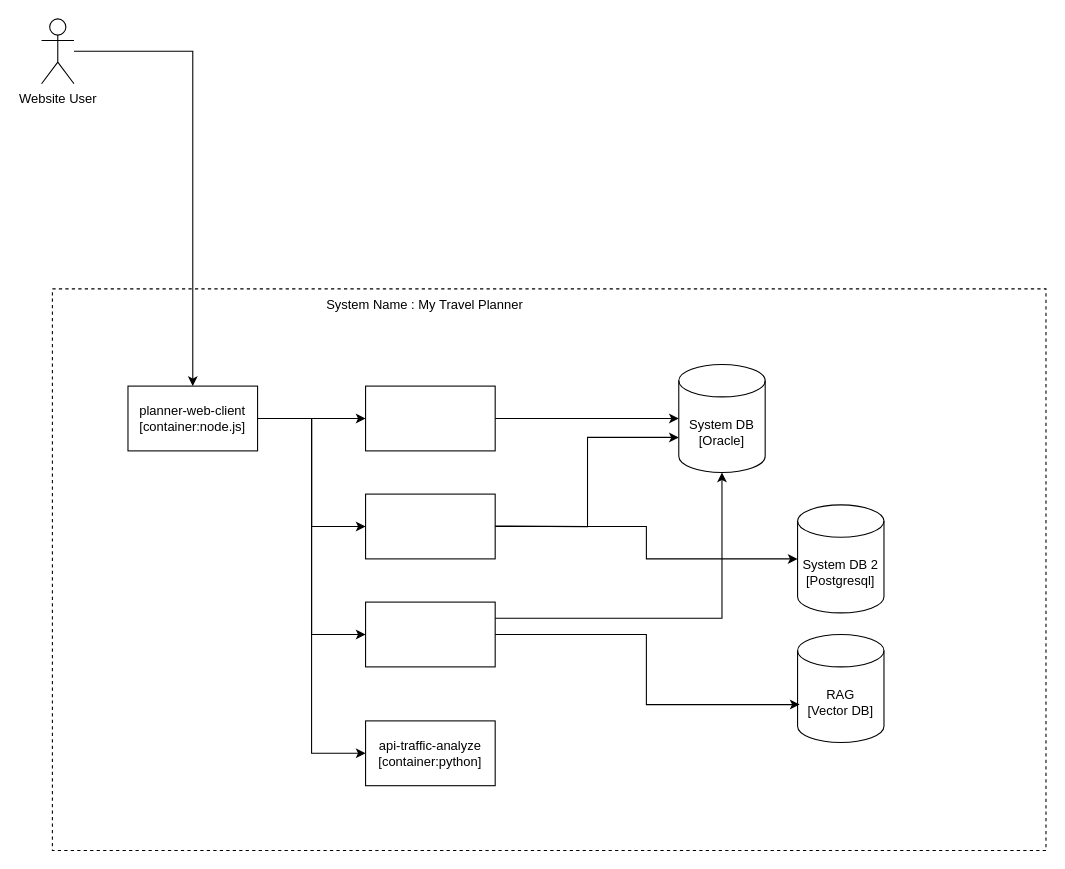
Image size: 1065x869. Some labels were removed from this diagram. Here are the shapes that lost their labels. From the top down, the centre of each, then its label:
[429,418]: api-planner-biz [container:java]
[429,526]: api-planner-transaction [container:java]
[429,634]: api-user-analyze [container:python]
